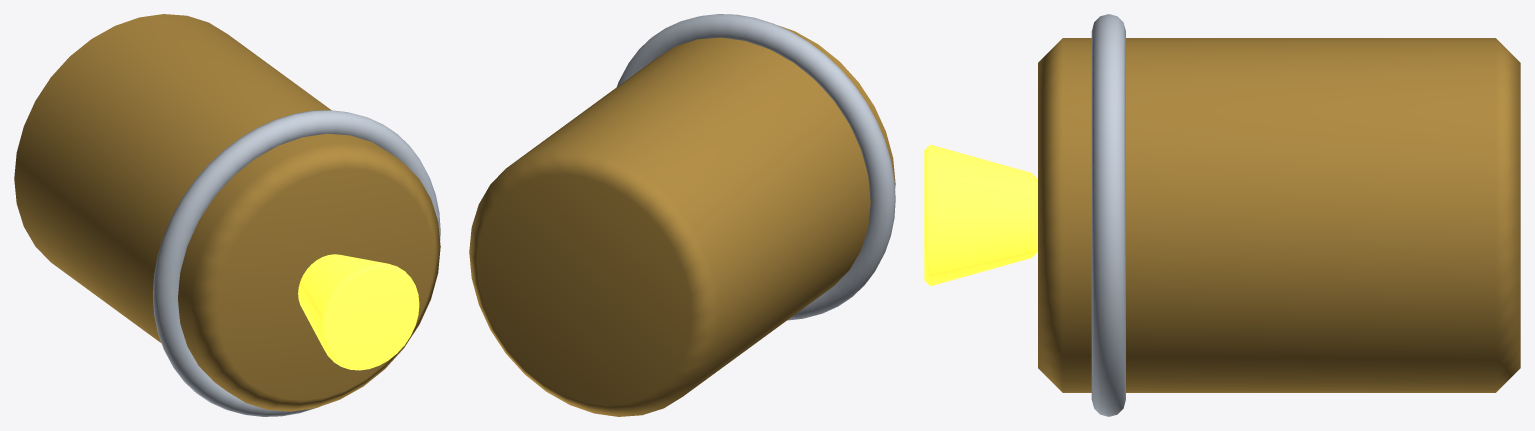
The model's file is proj_nova_shell.glb.
3 renders of one model, left to right at view 1: azimuth 30°, elevation 25°; view 2: azimuth 150°, elevation 25°; view 3: azimuth 270°, elevation 25°, orthographic. The views are drawn at different scales.
Parts seen in each view (by area): view 1: proj_nova_shell_body, proj_nova_shell_band, proj_nova_shell_fuse; view 2: proj_nova_shell_body, proj_nova_shell_band; view 3: proj_nova_shell_body, proj_nova_shell_band, proj_nova_shell_fuse.
Part boxes in pixels (x1=…): proj_nova_shell_body: x1=14, y1=14, x2=440, y2=411; proj_nova_shell_band: x1=153, y1=110, x2=440, y2=416; proj_nova_shell_fuse: x1=298, y1=254, x2=419, y2=370; proj_nova_shell_body: x1=469, y1=25, x2=895, y2=416; proj_nova_shell_band: x1=617, y1=14, x2=895, y2=320; proj_nova_shell_body: x1=1038, y1=38, x2=1520, y2=392; proj_nova_shell_band: x1=1091, y1=14, x2=1125, y2=416; proj_nova_shell_fuse: x1=924, y1=144, x2=1037, y2=286.
Size of what is drawn, in the model's own units: 0.284 by 0.284 by 0.42.
